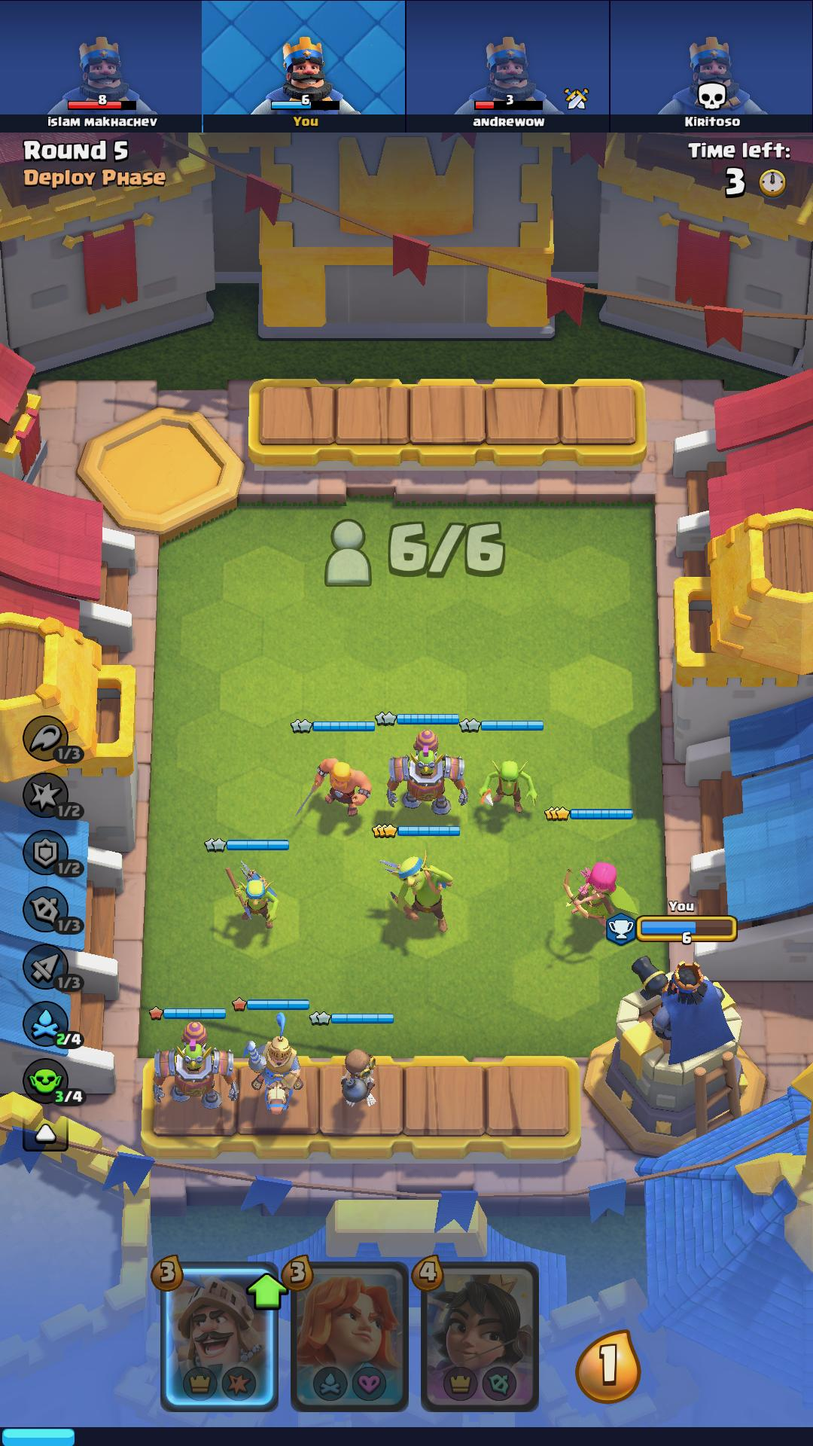archer: (559, 855, 641, 932)
barbarian: (312, 751, 372, 818)
bomber: (338, 1049, 380, 1111)
goblin: (480, 746, 540, 818)
hand-prince: (159, 1267, 276, 1408)
hand-princess: (421, 1263, 537, 1409)
hand-valkyrie: (290, 1263, 409, 1408)
machine: (154, 1023, 237, 1119), (383, 729, 470, 818)
prince: (241, 1014, 306, 1116)
spear: (379, 851, 458, 936), (220, 855, 286, 933)
upgrade: (248, 1274, 286, 1312)
